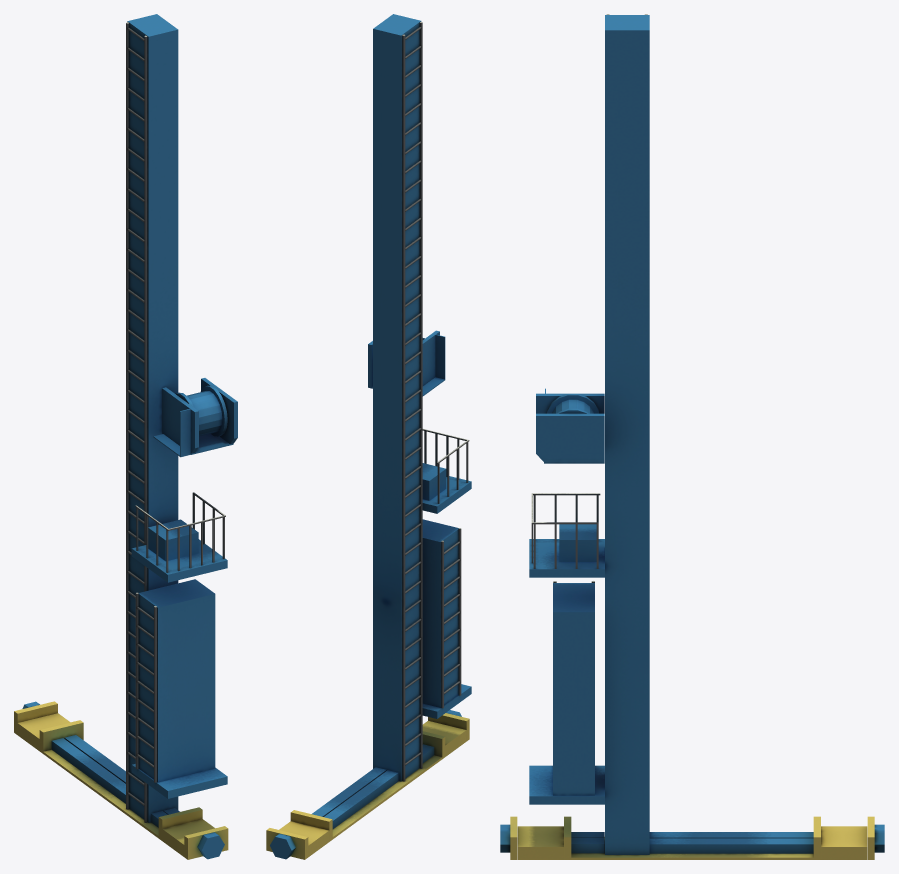
File: machine.serva.149.obj
3 views of the same model, side by side, from view 1: azimuth 30°, elevation 25°; view 2: azimuth 150°, elevation 25°; view 3: azimuth 270°, elevation 25° (orthographic). The views are drawn at different scales.
Visible parts, largest first — view 1: duiduoji2; view 2: duiduoji2; view 3: duiduoji2.
Boxes of the visible parts, x1=… form: duiduoji2: x1=14, y1=14, x2=237, y2=859; duiduoji2: x1=266, y1=14, x2=471, y2=859; duiduoji2: x1=500, y1=14, x2=884, y2=859.
Size of the model in its own units: 93.21 by 942 by 396.
